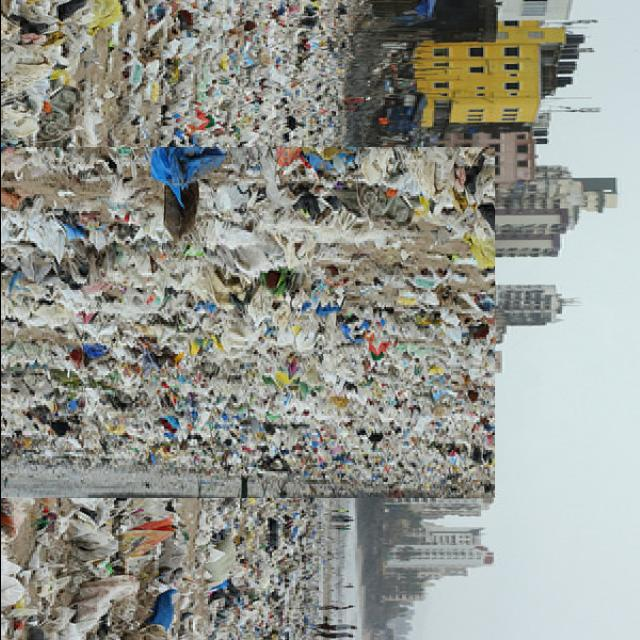garbage: (0, 75, 423, 569)
